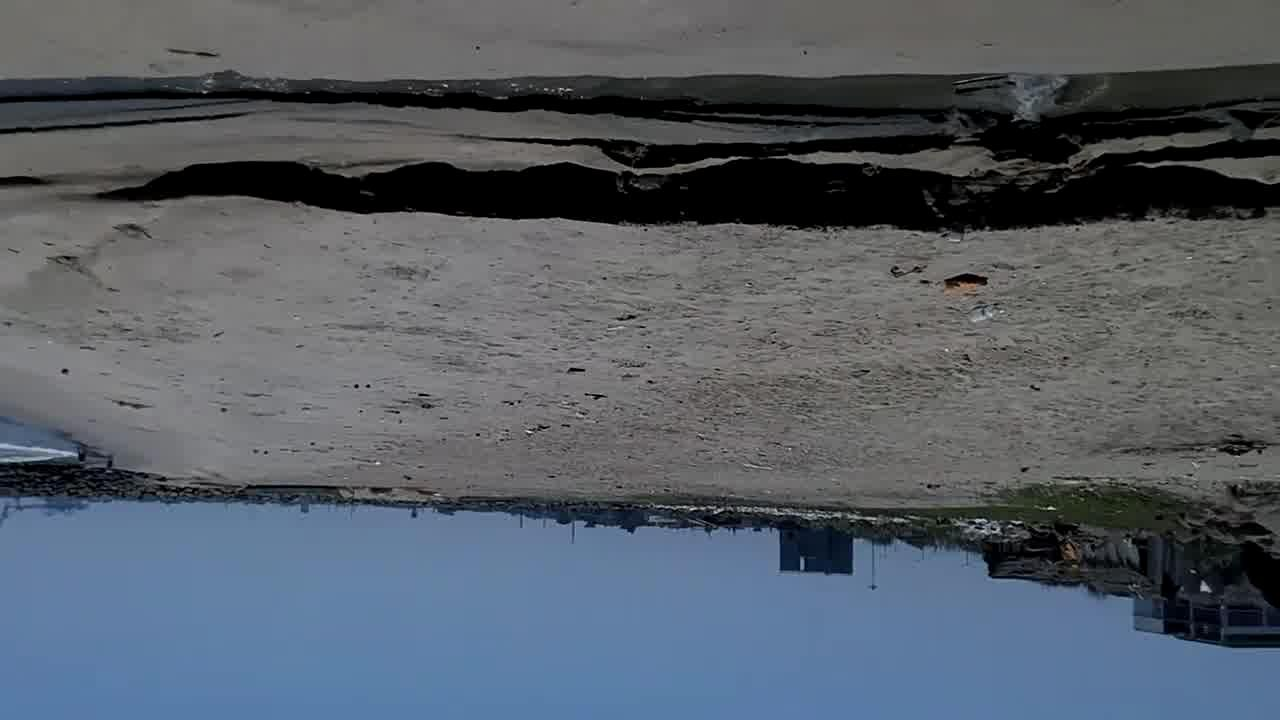obj: (941, 270, 984, 294), (968, 304, 1001, 322)
sand/background: (0, 388, 1280, 719)
